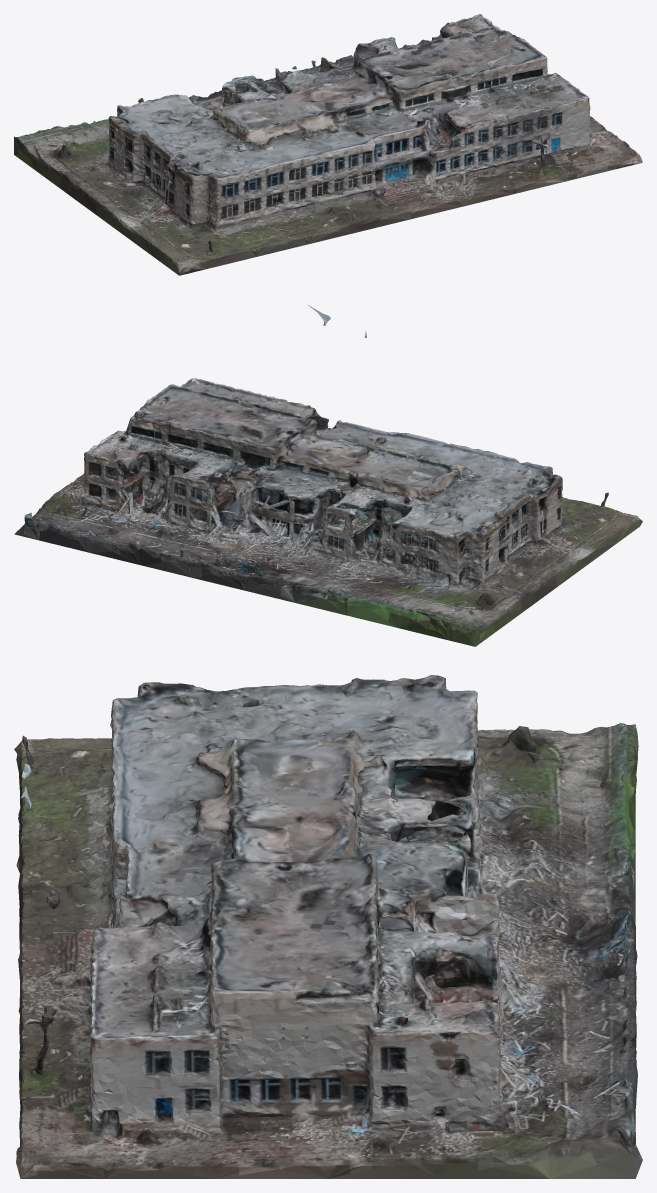
File: myrne_school.fbx
3 renders of one model, top to bottom at view 1: azimuth 30°, elevation 25°; view 2: azimuth 150°, elevation 25°; view 3: azimuth 270°, elevation 25°, orthographic. The views are drawn at different scales.
Visible parts, largest first — view 1: myrne_school; view 2: myrne_school; view 3: myrne_school.
Boxes of the visible parts, bbox=[...] form: myrne_school: bbox=[14, 14, 642, 275]; myrne_school: bbox=[14, 304, 642, 646]; myrne_school: bbox=[14, 675, 642, 1178].
Size of the model in its own units: 11.43 by 18.18 by 5.29.
1 material, 1 textured.
